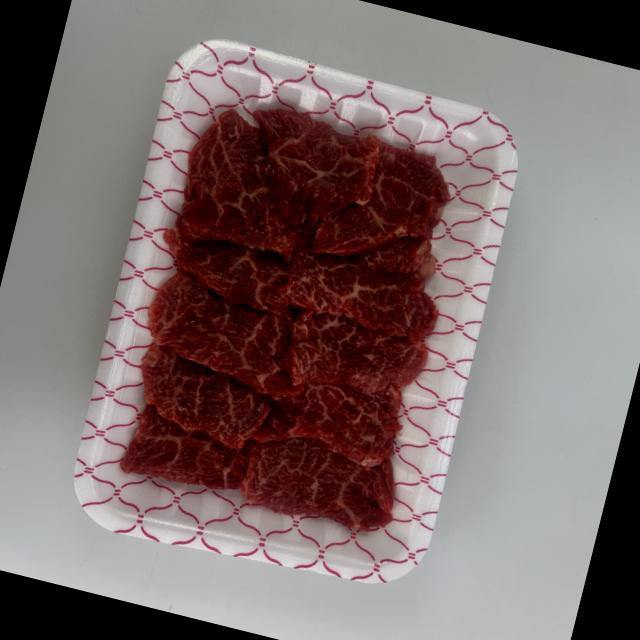beef: (119, 342, 414, 552), (168, 94, 452, 282), (143, 231, 432, 411)
